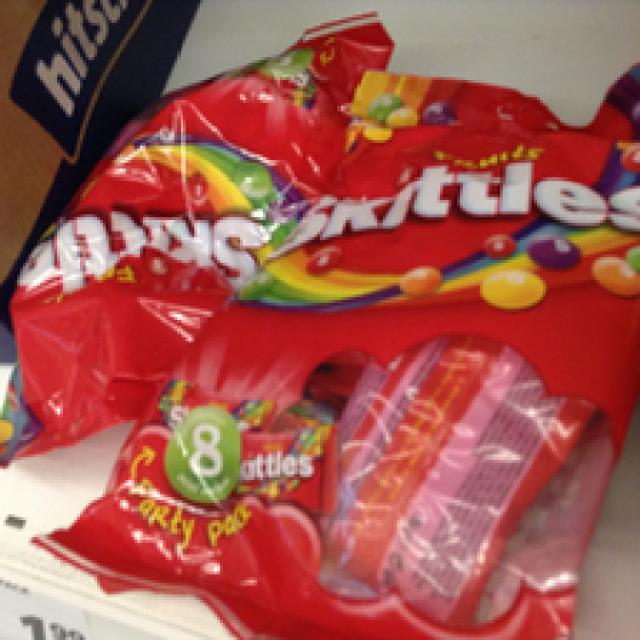groceries: (100, 97, 626, 612), (29, 37, 357, 409)
